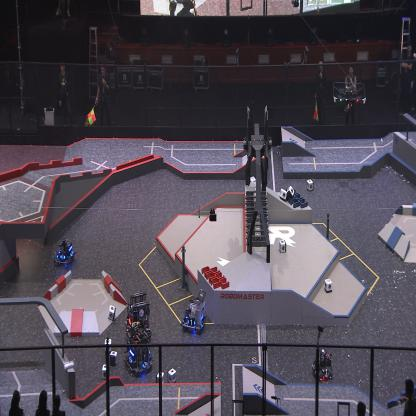car: (124, 321, 154, 375), (126, 291, 153, 341), (180, 288, 206, 333), (52, 236, 76, 267), (311, 349, 333, 381)
